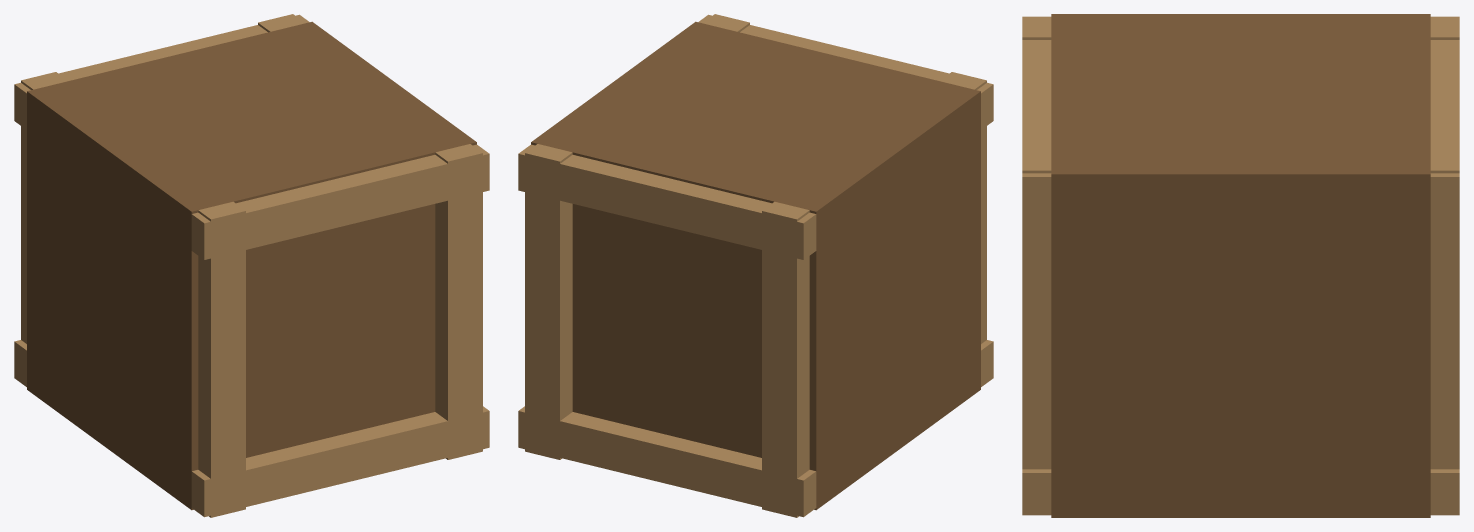
Rendered from TW_CRATE_SMALL_A_LOD0.glb.
3 renders of one model, left to right at view 1: azimuth 30°, elevation 25°; view 2: azimuth 150°, elevation 25°; view 3: azimuth 270°, elevation 25°, orthographic. The views are drawn at different scales.
Visible parts, largest first — view 1: TW_CRATE_SMALL_A_LOD0; view 2: TW_CRATE_SMALL_A_LOD0; view 3: TW_CRATE_SMALL_A_LOD0.
Boxes of the visible parts, x1,y1,x2,y2 form: TW_CRATE_SMALL_A_LOD0: [14, 14, 489, 517]; TW_CRATE_SMALL_A_LOD0: [518, 14, 993, 517]; TW_CRATE_SMALL_A_LOD0: [1022, 14, 1459, 517].
Bounding box in the file's own units: 0.65 × 0.65 × 0.75.
1 material, 1 textured.
